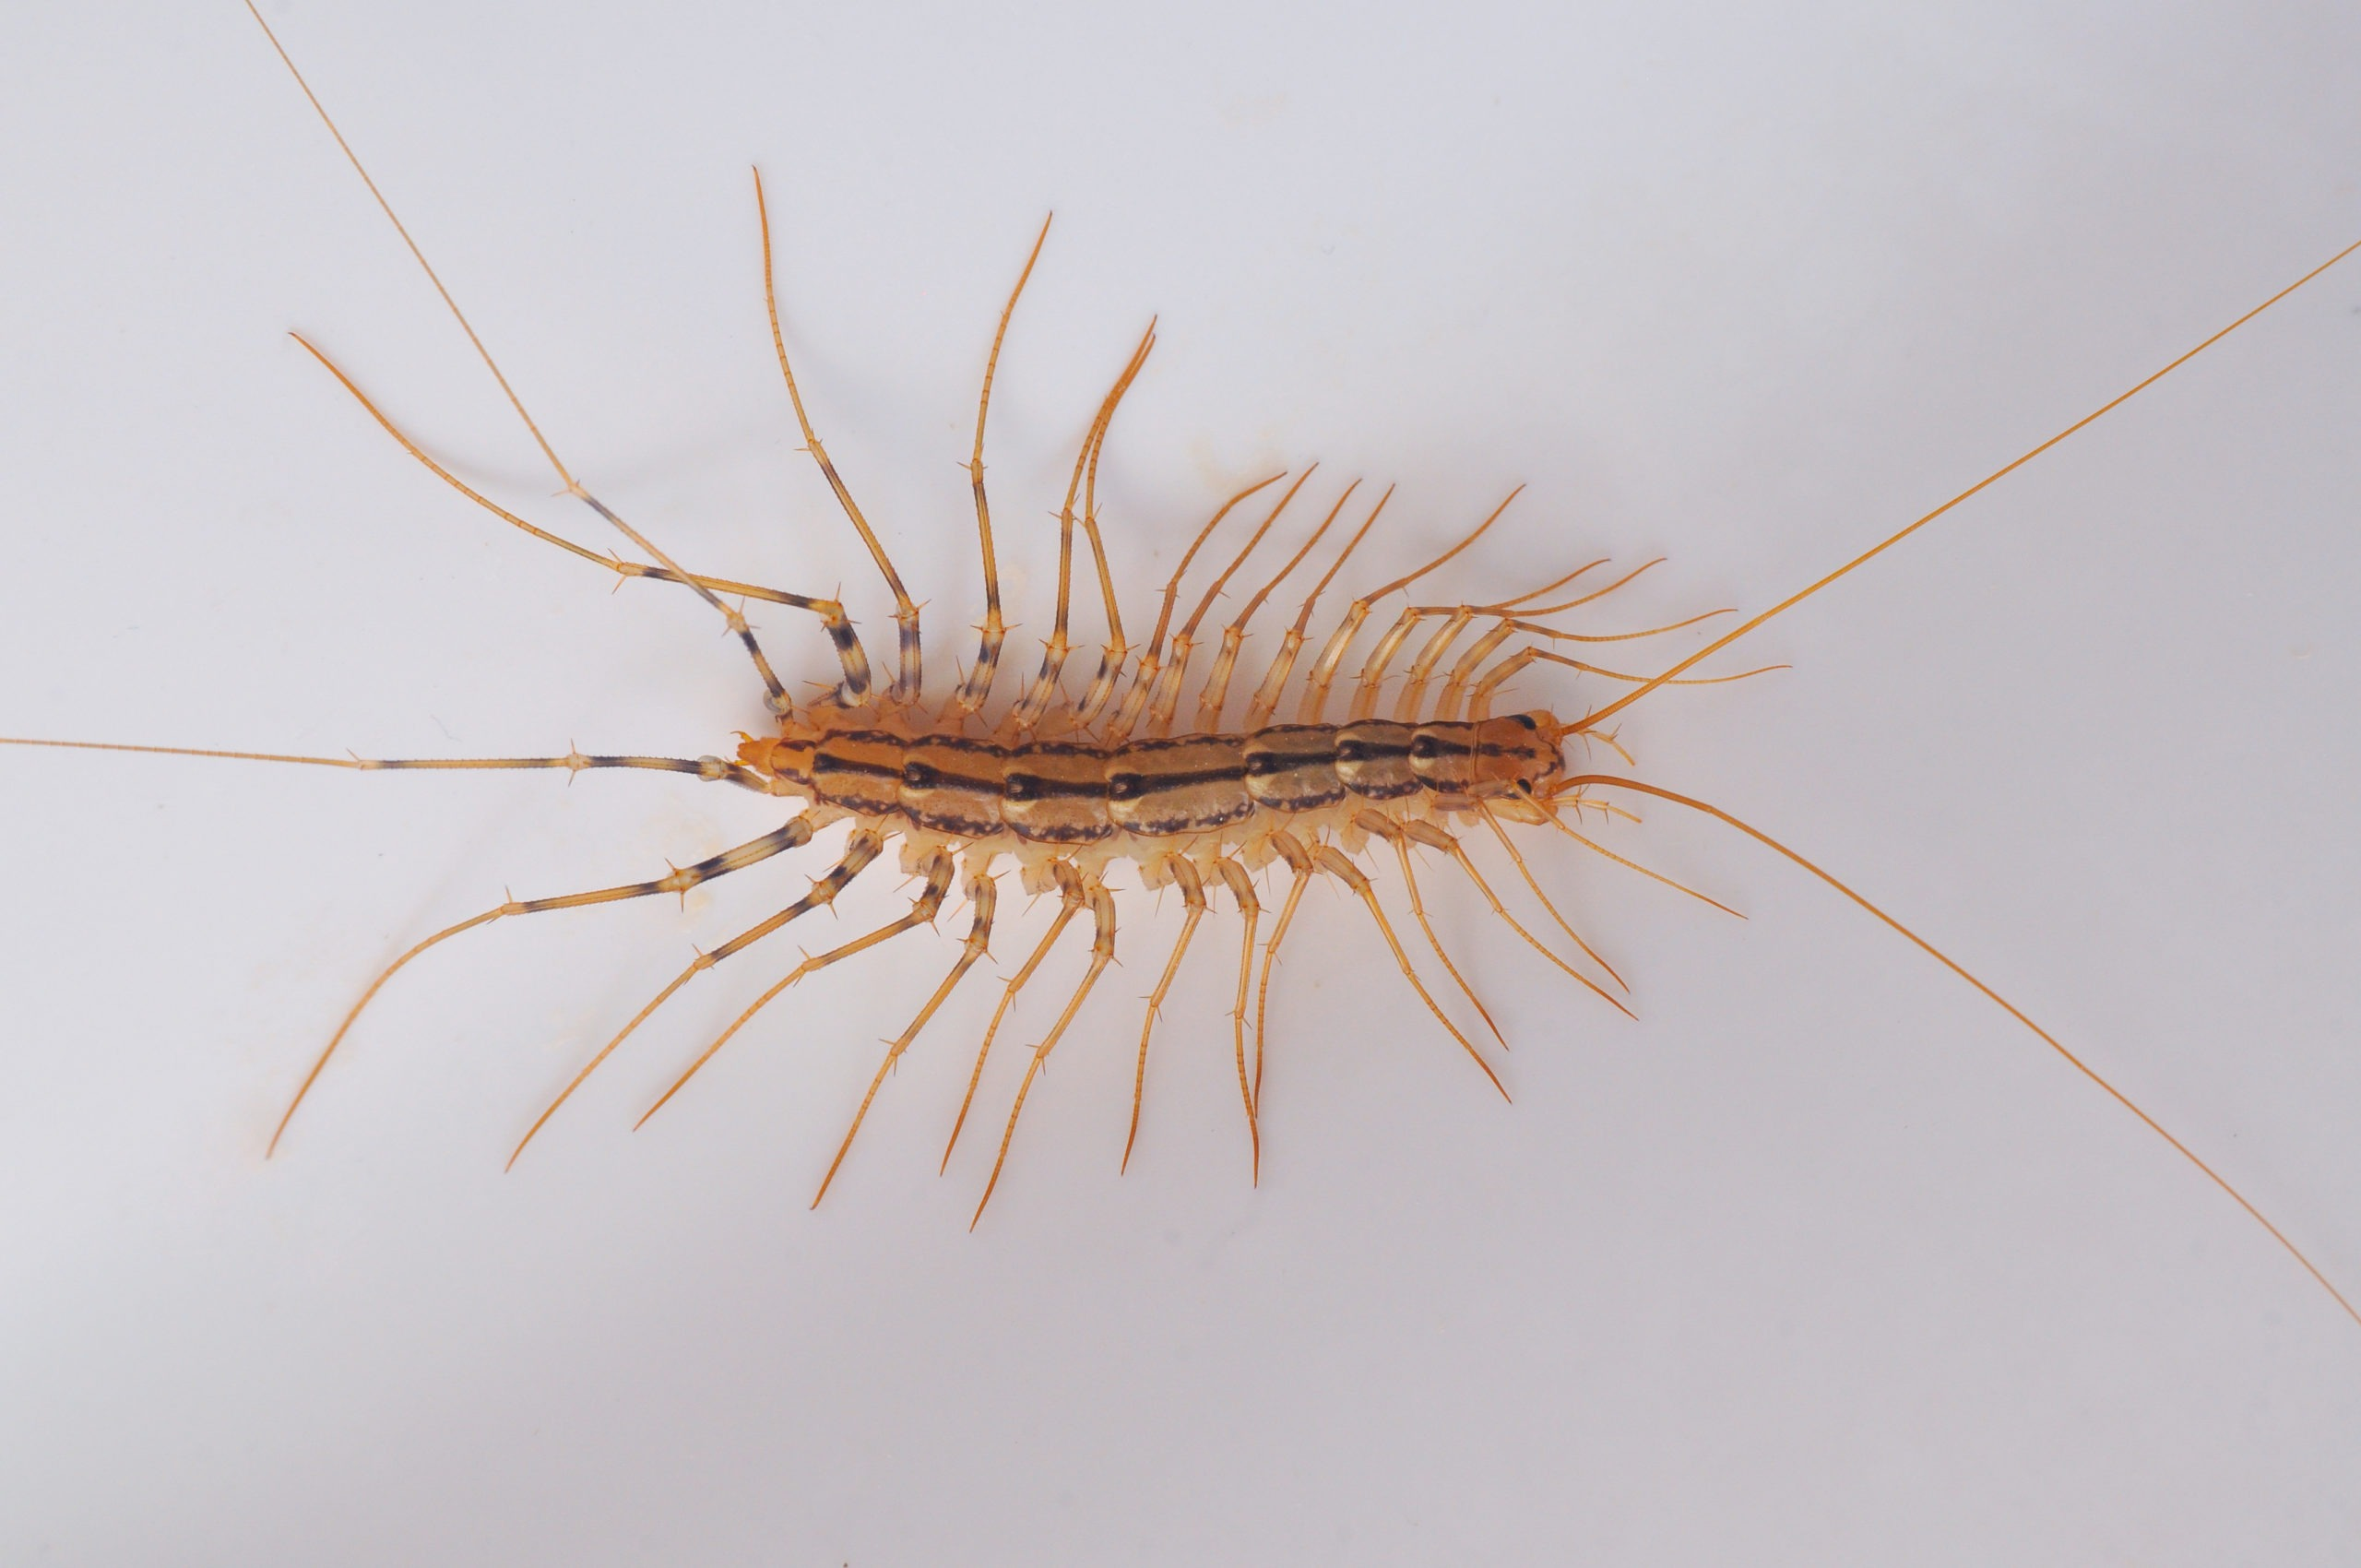centipede: (210, 163, 2361, 1253)
